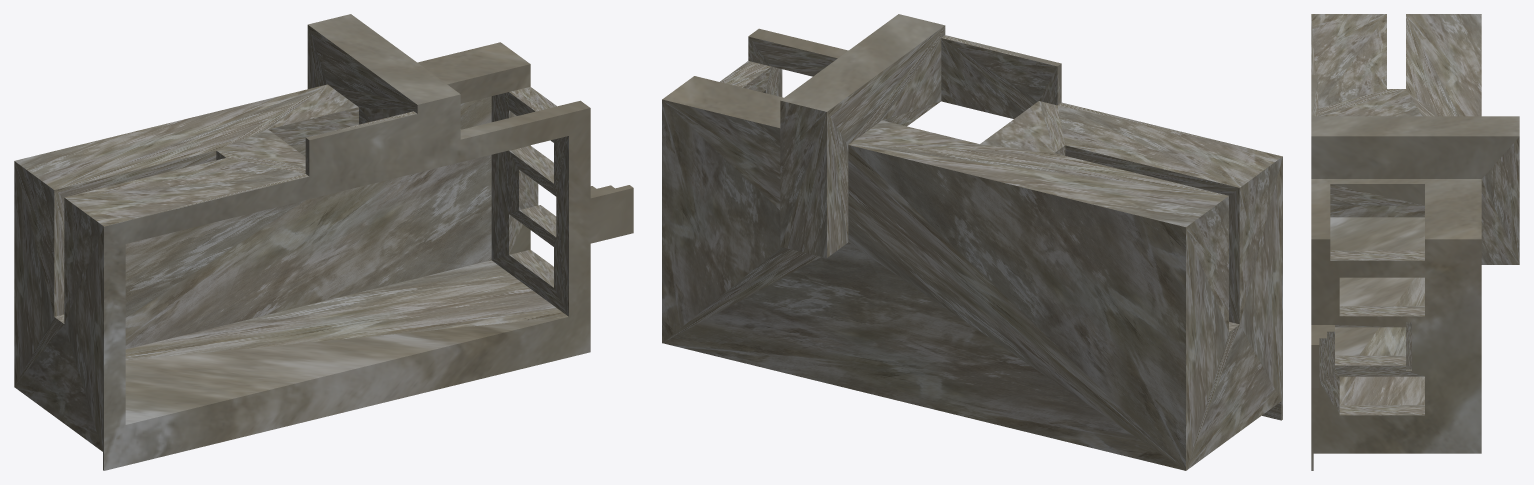
File: sub_main.obj
3 views of the same model, side by side, from view 1: azimuth 30°, elevation 25°; view 2: azimuth 150°, elevation 25°; view 3: azimuth 270°, elevation 25° (orthographic). The views are drawn at different scales.
Visible parts, largest first — view 1: sub_main; view 2: sub_main; view 3: sub_main.
Part boxes in pixels (x1,y1,x2,y2): sub_main: [14, 14, 633, 470]; sub_main: [662, 14, 1282, 470]; sub_main: [1311, 14, 1519, 470].
Size of the model in its own units: 24.5 by 12.8 by 8.8.
Materials: 1 (1 with a texture image).
